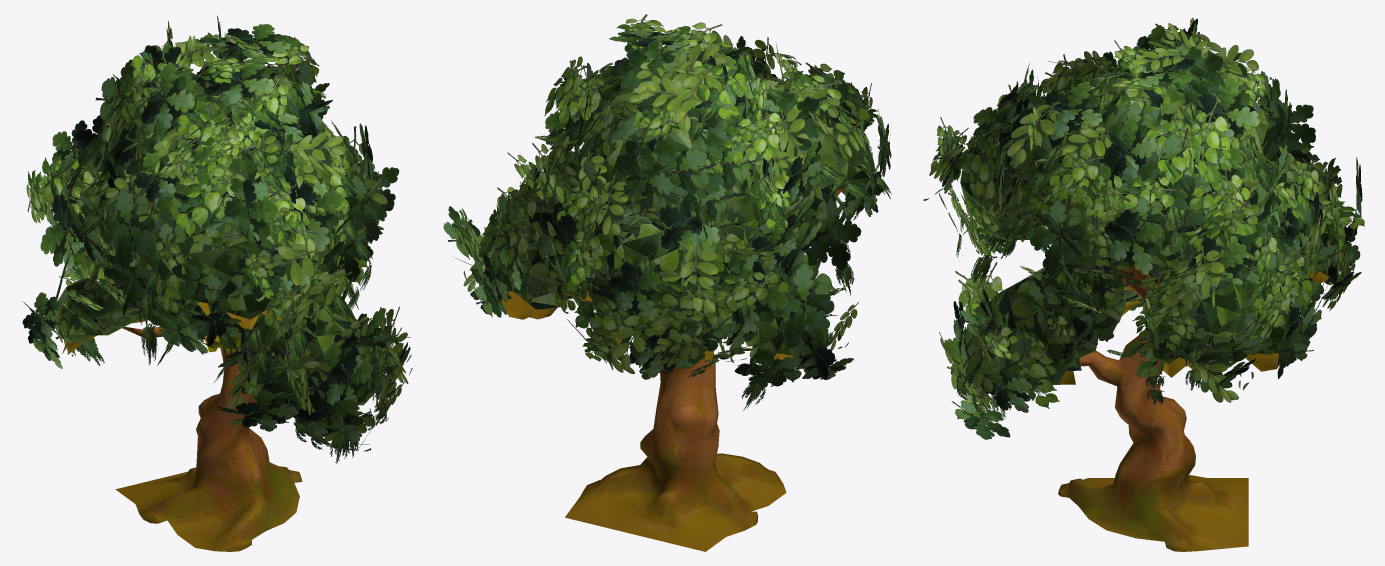
File: oak_2.glb
The picture shows the model from 3 angles, left to right: view 1: azimuth 30°, elevation 25°; view 2: azimuth 150°, elevation 25°; view 3: azimuth 270°, elevation 25°; orthographic projection.
Parts seen in each view (by area): view 1: Fable_oak_2; view 2: Fable_oak_2; view 3: Fable_oak_2.
Part boxes in pixels (bbox=[...]): Fable_oak_2: bbox=[22, 15, 412, 551]; Fable_oak_2: bbox=[443, 14, 891, 551]; Fable_oak_2: bbox=[923, 17, 1364, 551].
Bounding box in the file's own units: 6.61 × 7.64 × 6.5.
2 materials, 2 textured.
